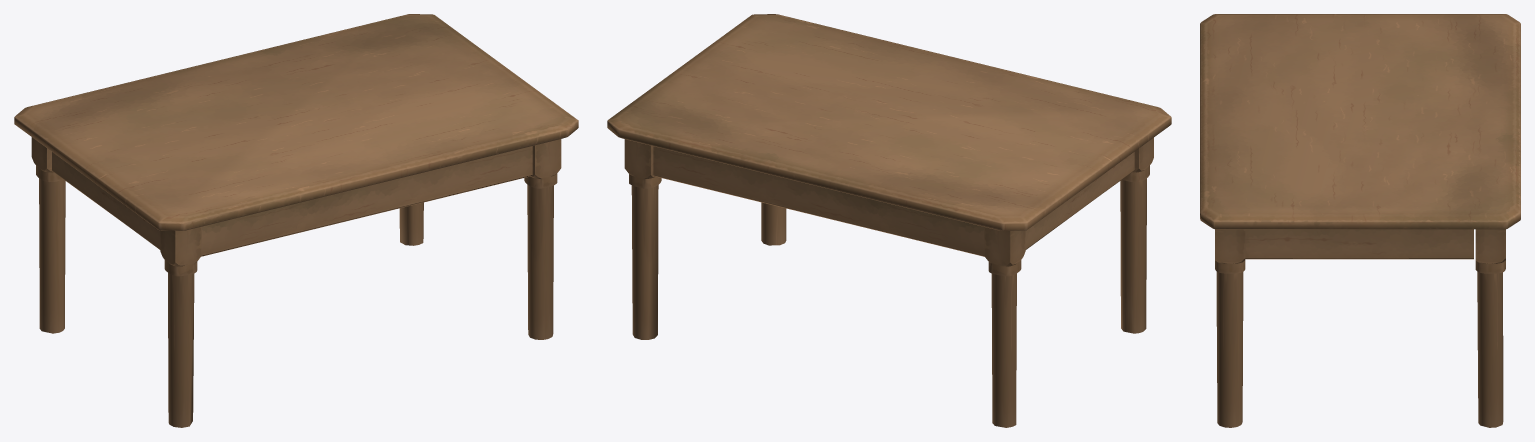
File: FUR0110005.fbx
3 renders of one model, left to right at view 1: azimuth 30°, elevation 25°; view 2: azimuth 150°, elevation 25°; view 3: azimuth 270°, elevation 25°, orthographic.
Visible parts, largest first — view 1: smFUR0110005; view 2: smFUR0110005; view 3: smFUR0110005.
Boxes of the visible parts, left/top/right/bottom form: smFUR0110005: left=14, top=14, right=578, bottom=427; smFUR0110005: left=607, top=14, right=1171, bottom=427; smFUR0110005: left=1200, top=14, right=1520, bottom=427.
Bounding box in the file's own units: 1.92 × 0.9401 × 1.25.
Materials: 1 (1 with a texture image).
